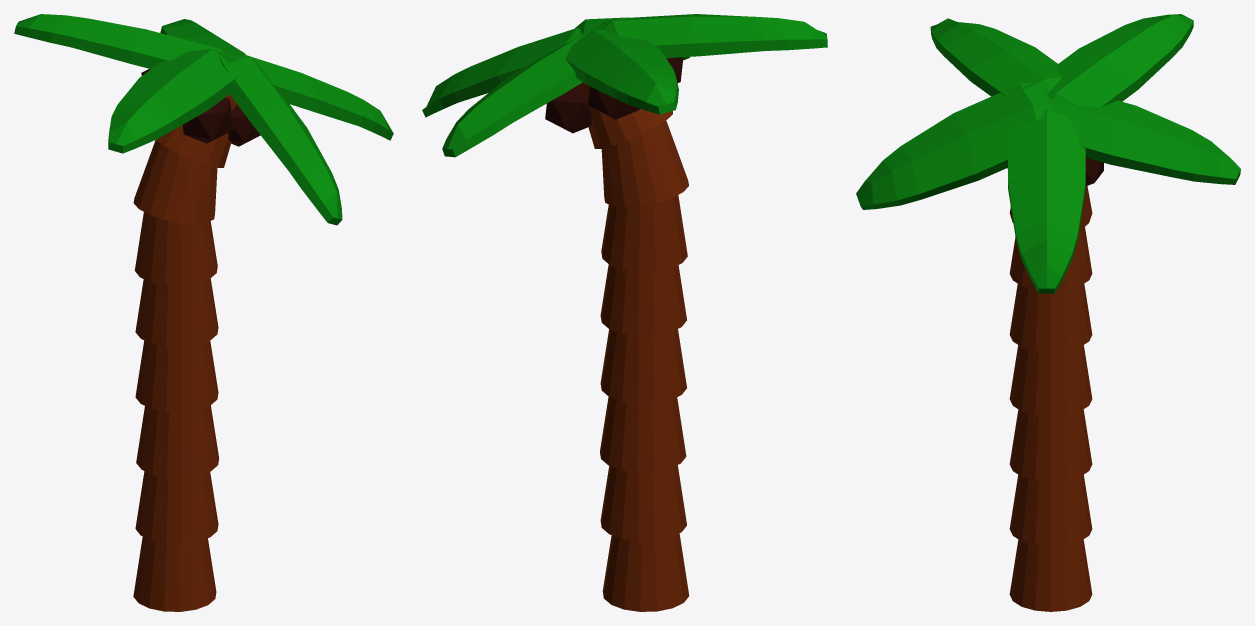
Rendered from palmboom3.fbx.
3 renders of one model, left to right at view 1: azimuth 30°, elevation 25°; view 2: azimuth 150°, elevation 25°; view 3: azimuth 270°, elevation 25°, orthographic. The views are drawn at different scales.
Visible parts, largest first — view 1: Cylinder; view 2: Cylinder; view 3: Cylinder.
Part boxes in pixels (x1=…): Cylinder: x1=14, y1=14, x2=393, y2=611; Cylinder: x1=422, y1=14, x2=827, y2=611; Cylinder: x1=856, y1=14, x2=1240, y2=611.
Bounding box in the file's own units: 2.64 × 4.18 × 2.67.
